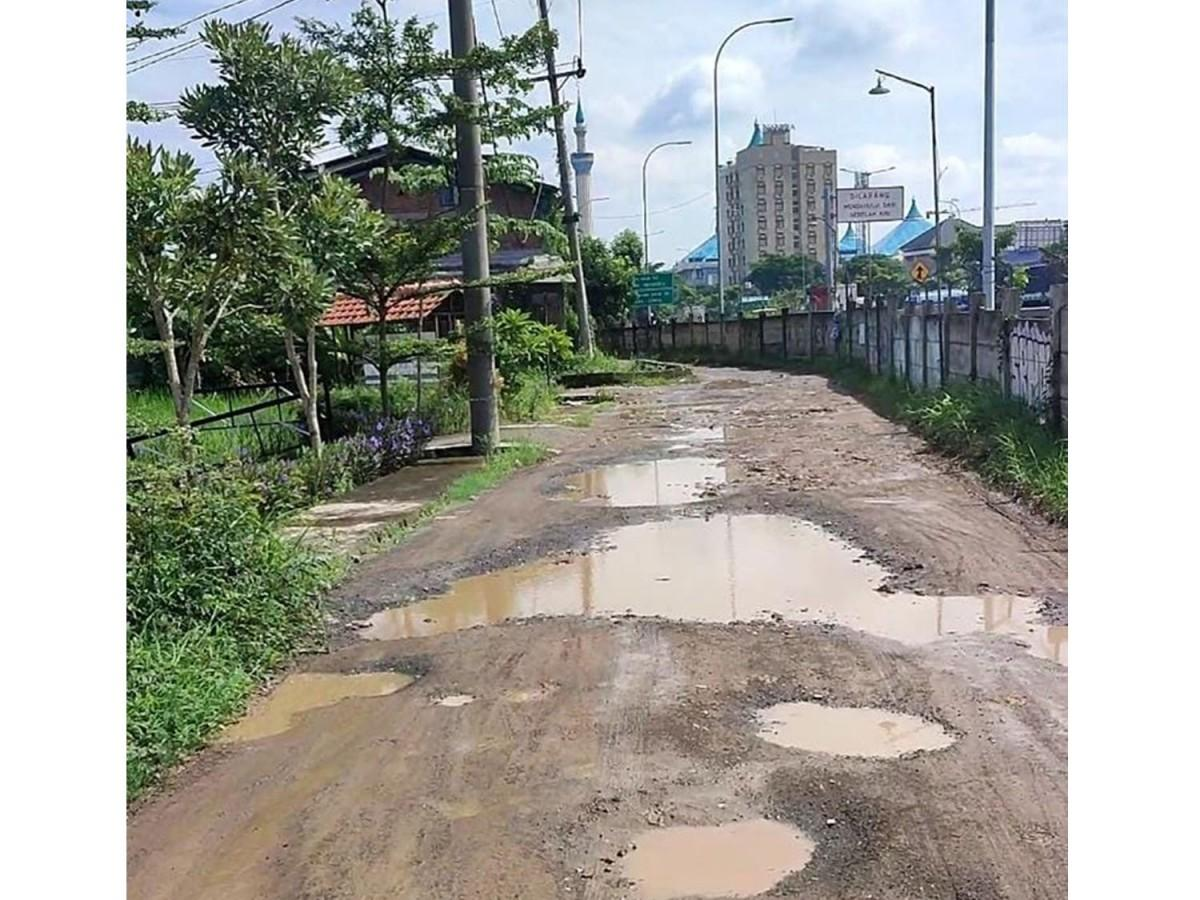Pothole: (323, 498, 1099, 648), (516, 766, 814, 900), (726, 656, 942, 789), (216, 648, 427, 759), (561, 383, 747, 508)
